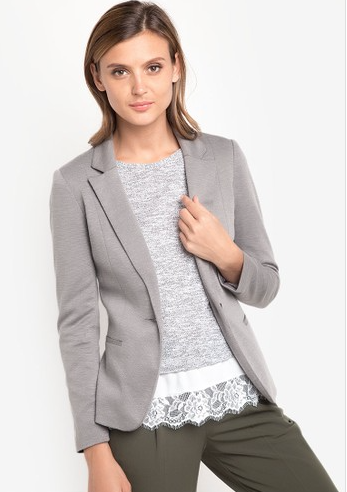F_W_suit jacket: (33, 131, 290, 430)
